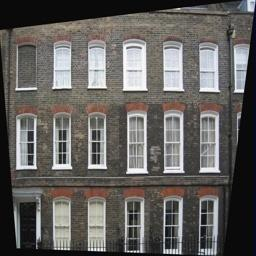building: (6, 0, 232, 254)
